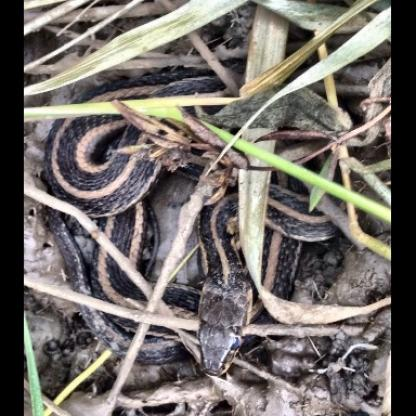Snake: (39, 73, 369, 380)
